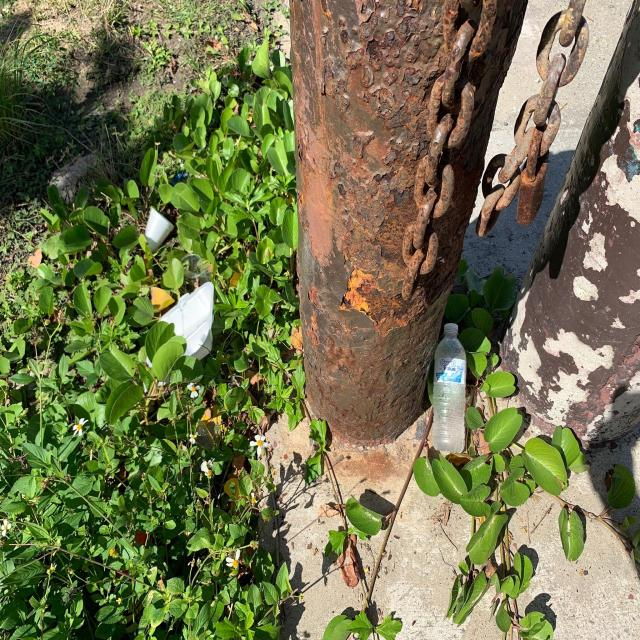litter: (139, 281, 214, 393), (432, 323, 467, 454), (142, 208, 174, 253)
